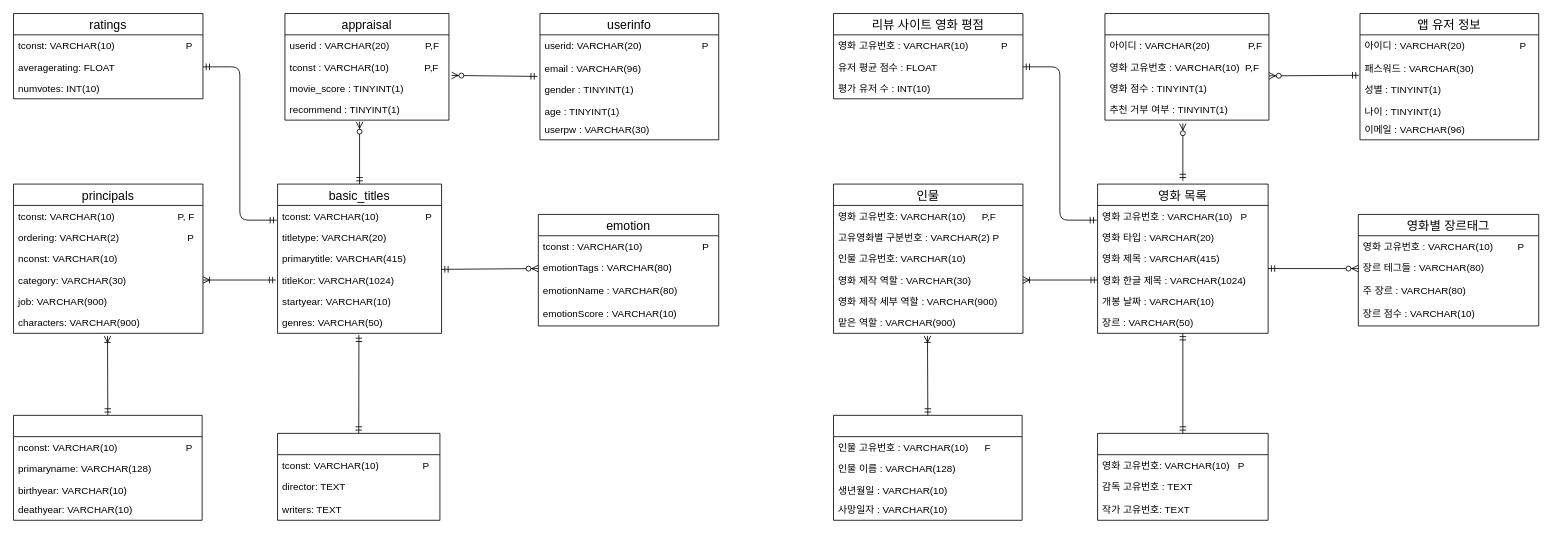
The diagram is 1552 pixels wide and 534 high, and some of its shapes have lost their labels. Each missing label, with the box of its shape:
basic_name: (13, 415, 202, 520)
crew: (277, 433, 440, 520)
앱 유저 영화 평점: (1104, 13, 1269, 120)
영화별 제작진: (1097, 433, 1268, 520)
인물 목록: (833, 415, 1022, 520)
